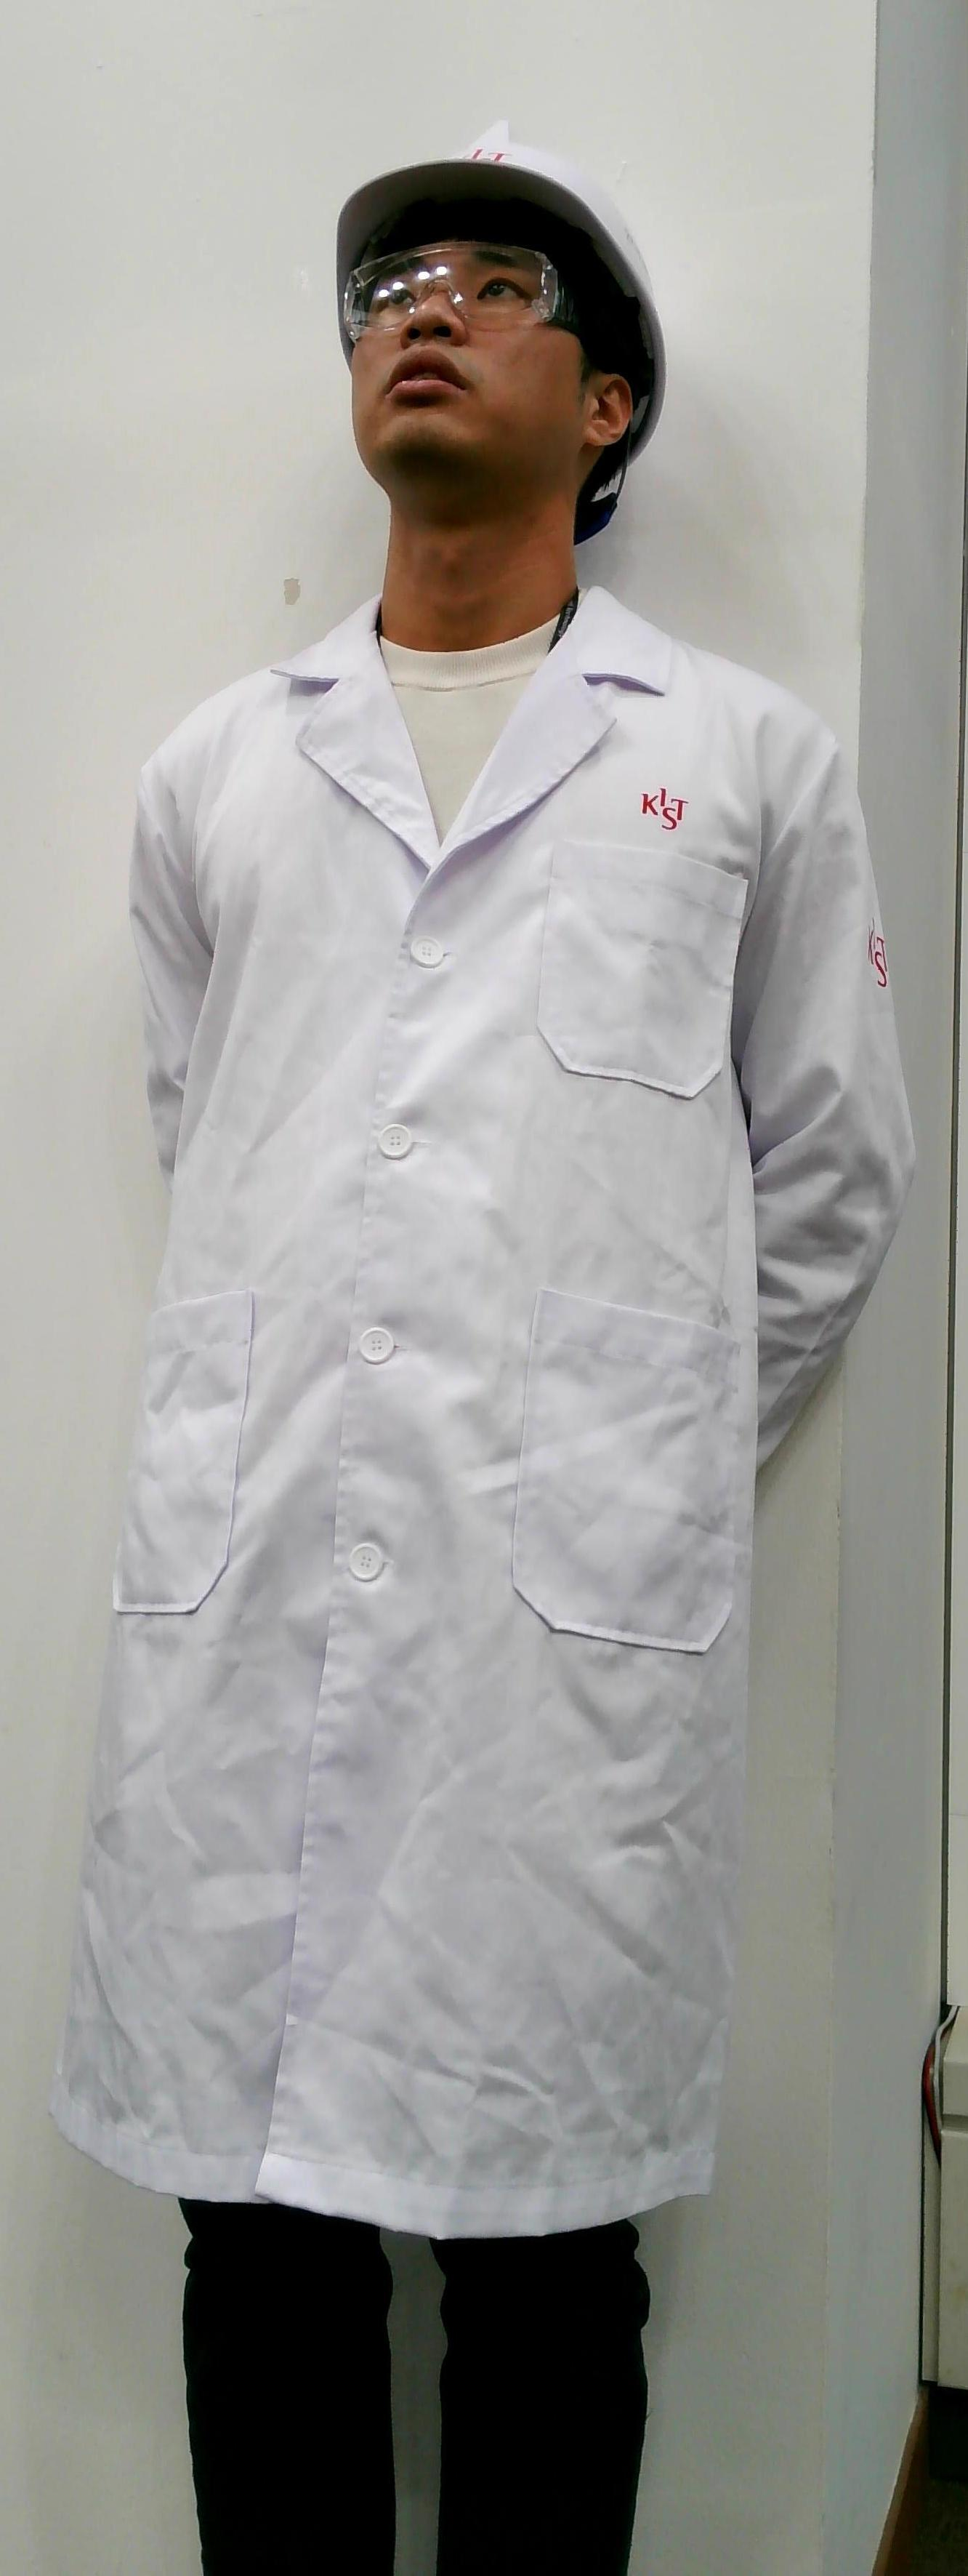lab_coat: (104, 664, 832, 2224)
